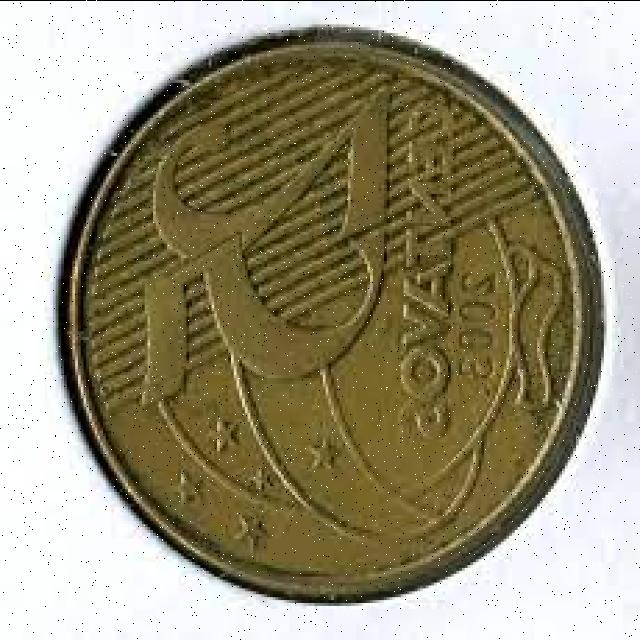25 cent: (60, 51, 580, 576)
